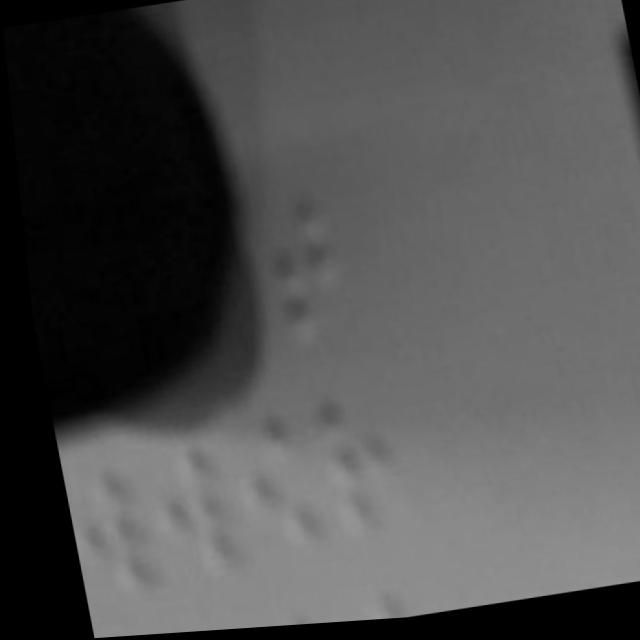braiile: (291, 376, 397, 552), (205, 403, 316, 568), (46, 440, 152, 609), (244, 188, 346, 363), (126, 415, 227, 583)
